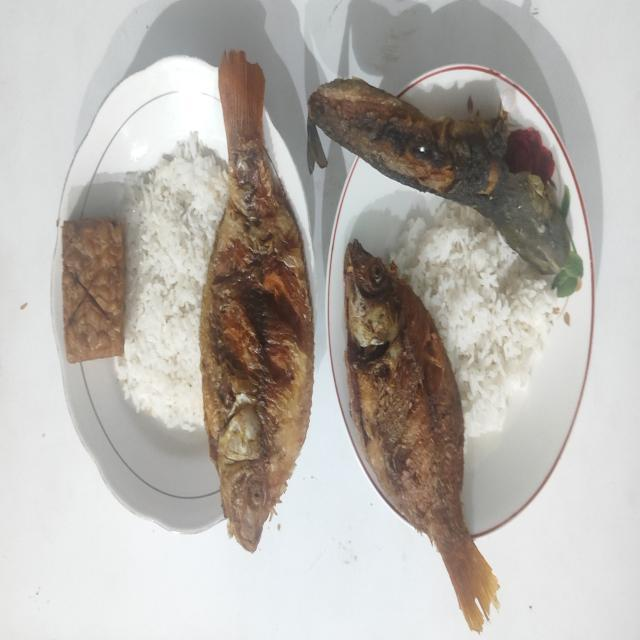ikan_mujair: (344, 240, 498, 632), (200, 51, 314, 552)
nasi_putih: (384, 200, 560, 437), (115, 132, 229, 432)
tempe_goreng: (62, 218, 126, 363)
